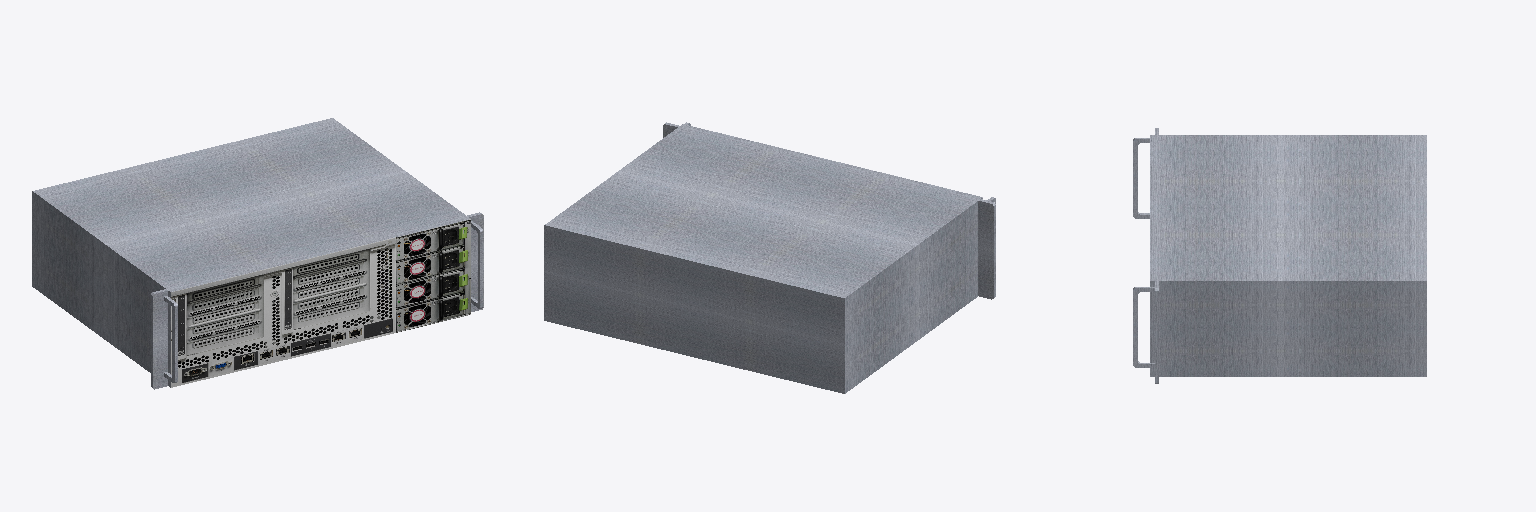
3 renders of one model, left to right at view 1: azimuth 30°, elevation 25°; view 2: azimuth 150°, elevation 25°; view 3: azimuth 270°, elevation 25°, orthographic.
Visible parts, largest first — view 1: FW; view 2: FW; view 3: FW.
Boxes of the visible parts, x1=… form: FW: x1=32, y1=118, x2=483, y2=389; FW: x1=544, y1=122, x2=995, y2=393; FW: x1=1133, y1=128, x2=1426, y2=383.
Bounding box in the file's own units: 2.01 × 0.5545 × 1.54.
Materials: 2 (2 with a texture image).